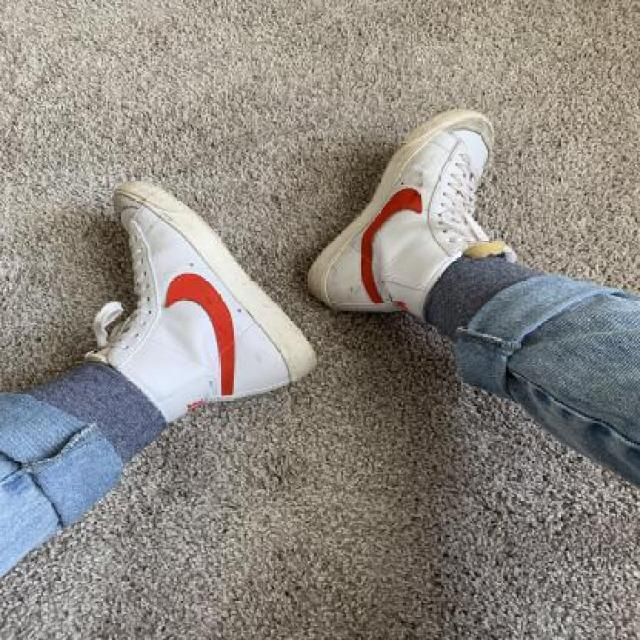shoe: (81, 178, 302, 425), (308, 105, 500, 324)
